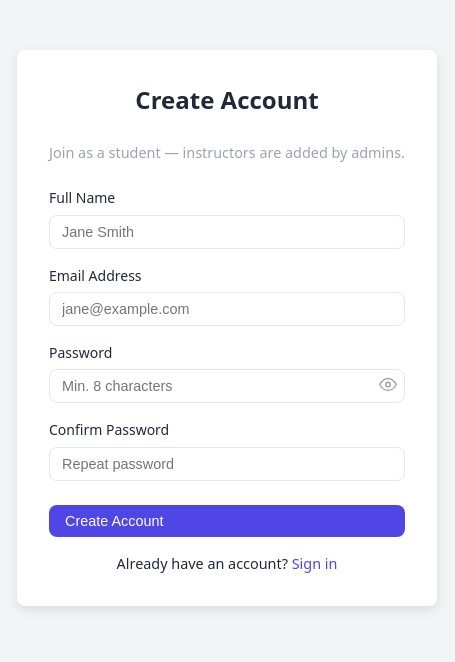
Test case: RegisterPage › shows validation error for short password
Type "Alice" into the field labelled "Full Name" at (227, 232), box [49, 215, 405, 249]
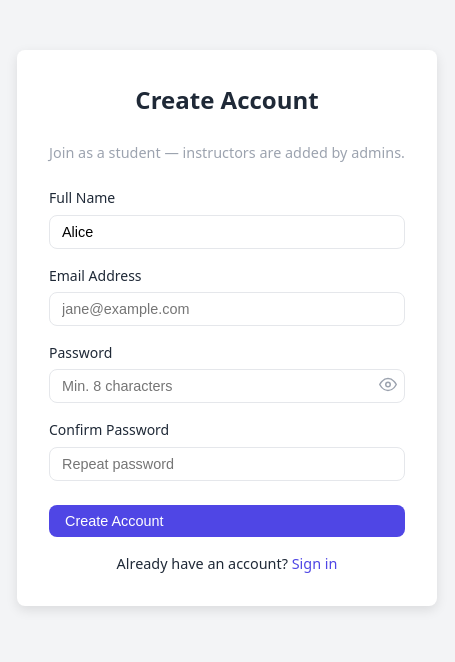
Type "a@b.com" into the field labelled "Email Address" at (227, 309), box [49, 292, 405, 326]
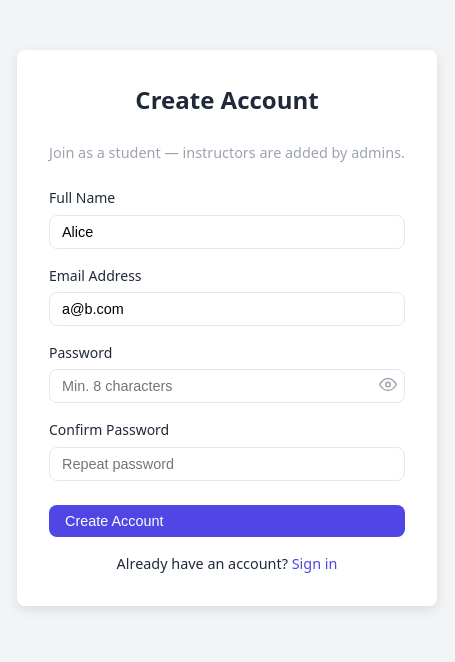
Type "short" into the password field labelled "Password" at (227, 386), box [49, 369, 405, 403]
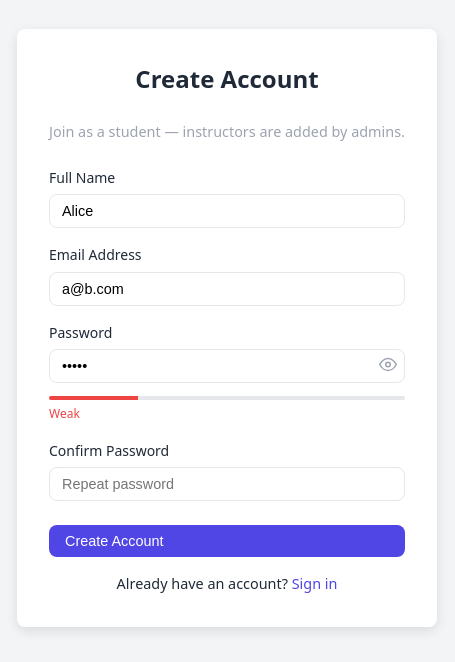
Type "short" into the password field labelled "Confirm Password" at (227, 484), box [49, 467, 405, 501]
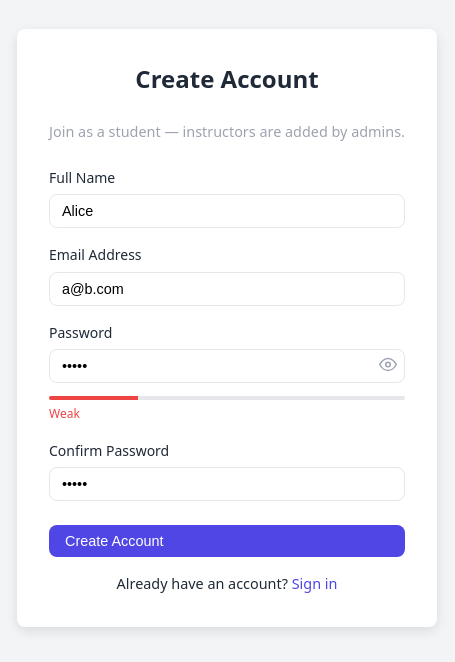
Click the button "Create Account" at (114, 541), box [49, 525, 405, 557]
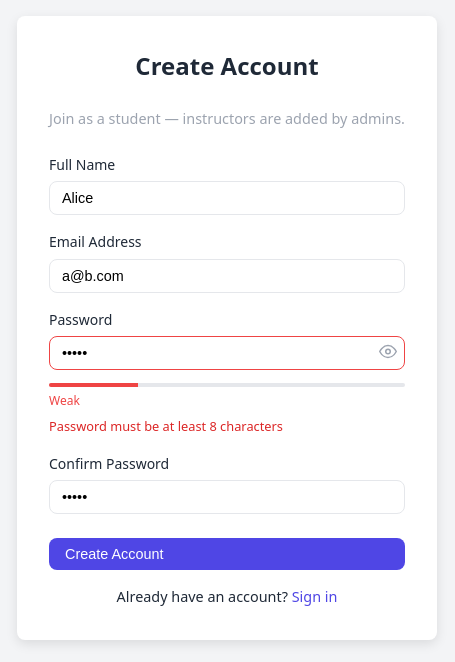
Check: the text "Password must be at least 8 characters" is shown, box [49, 417, 283, 435]
